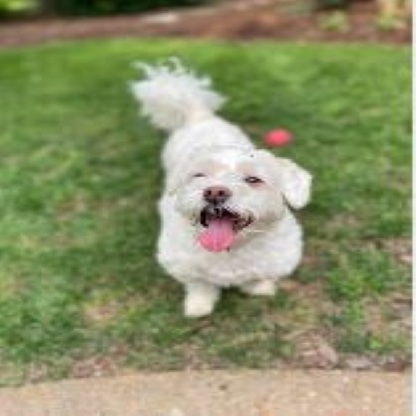maltese: (126, 59, 313, 320)
